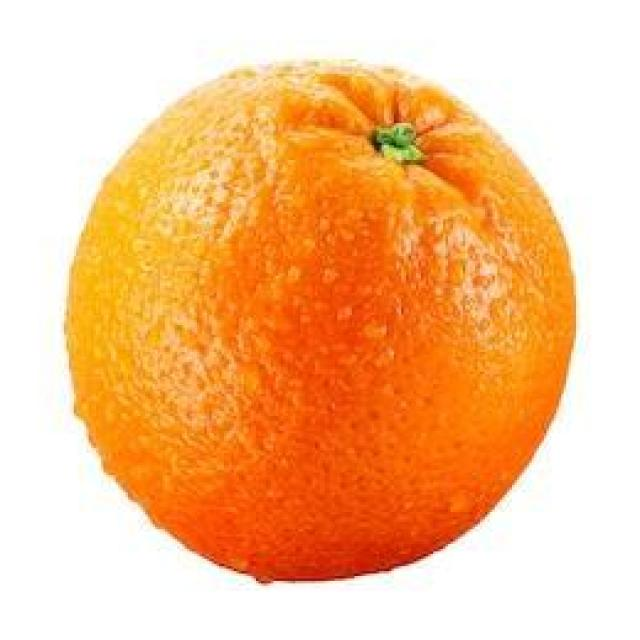orange: (62, 57, 580, 585)
